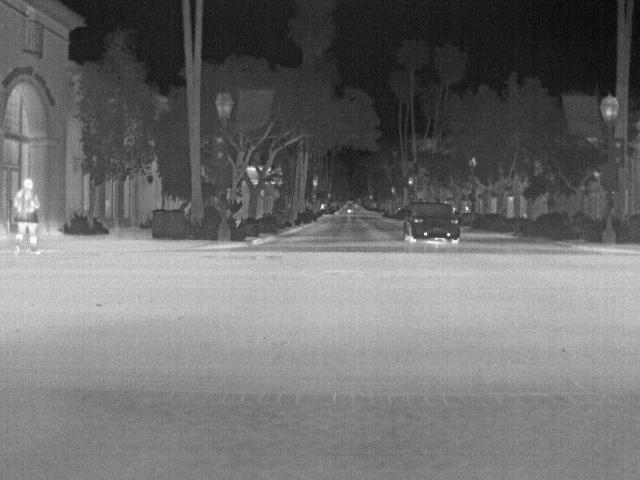car: (403, 200, 462, 244)
person: (12, 176, 42, 258)
